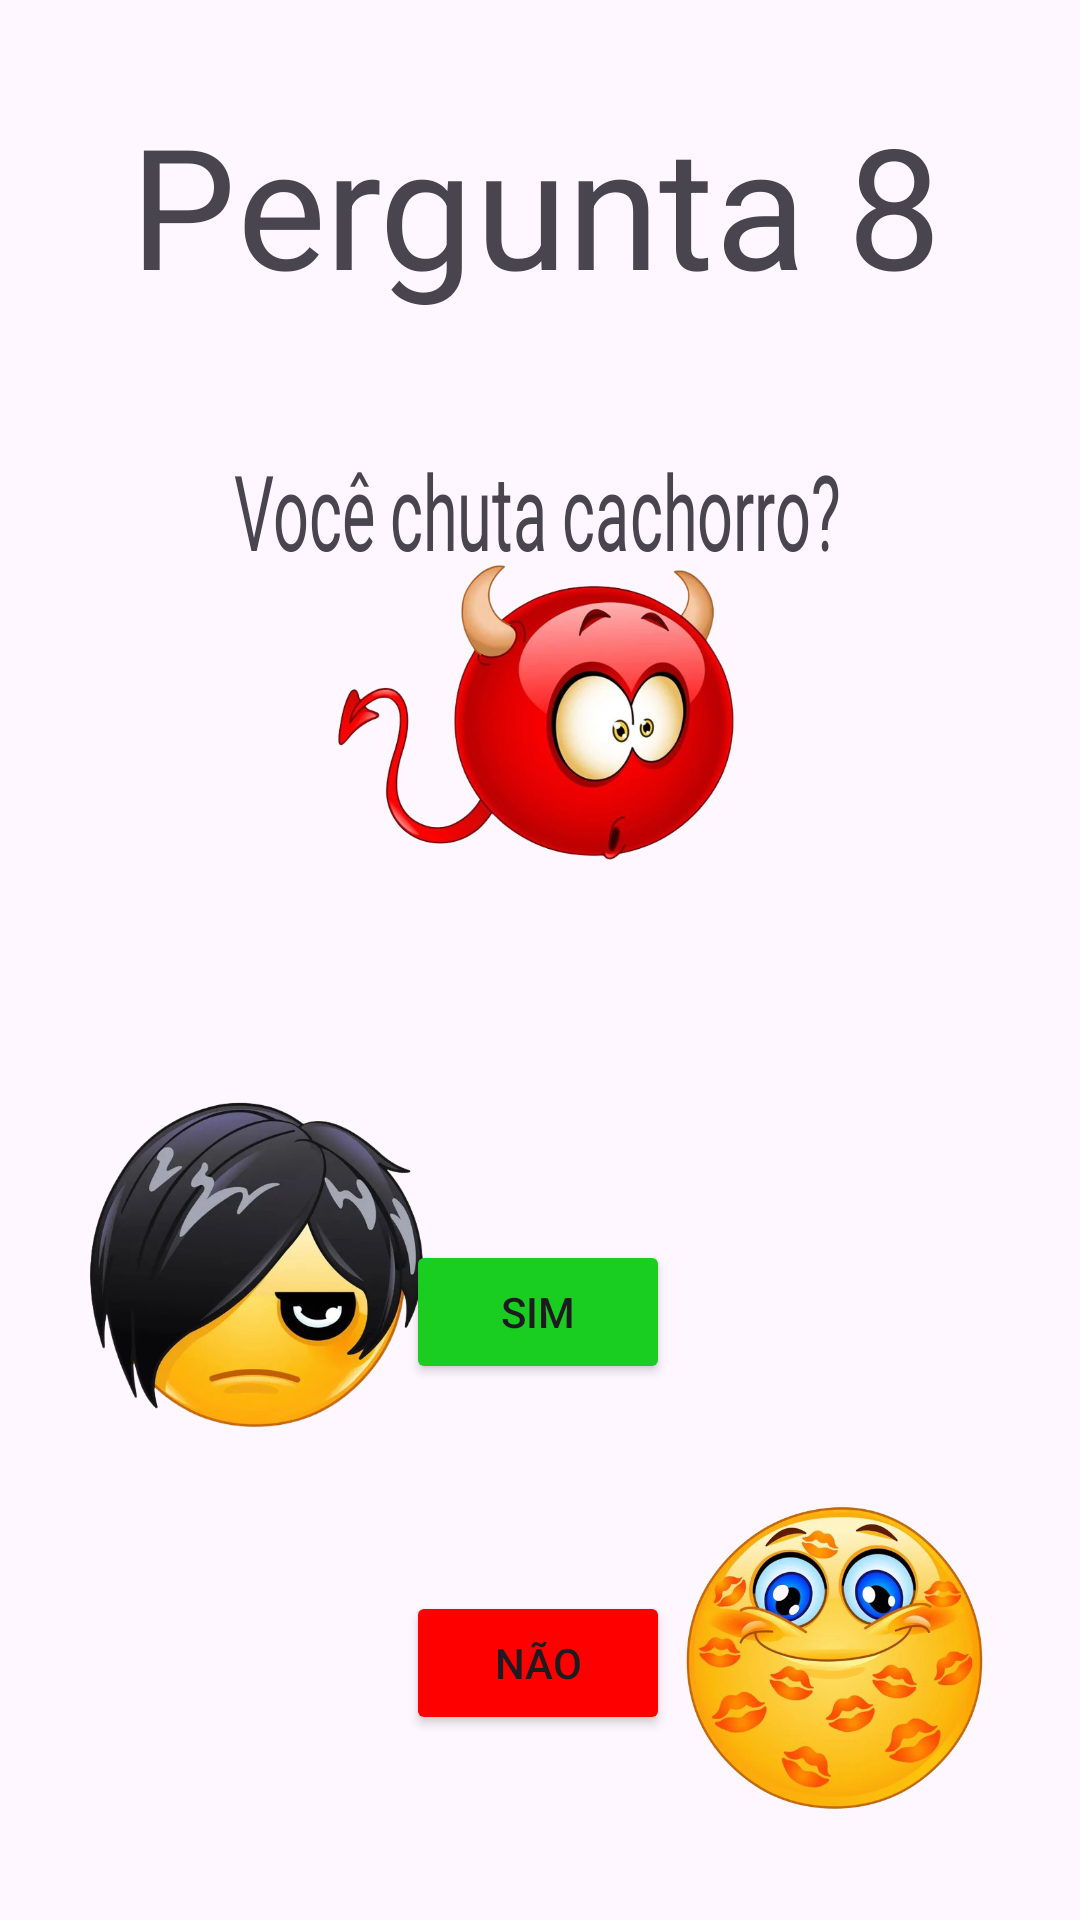

Icon click points for this 1080 x 1920 phone screenshot, format point (x, y):
beijos: point (834, 1658)
emo: point (259, 1265)
